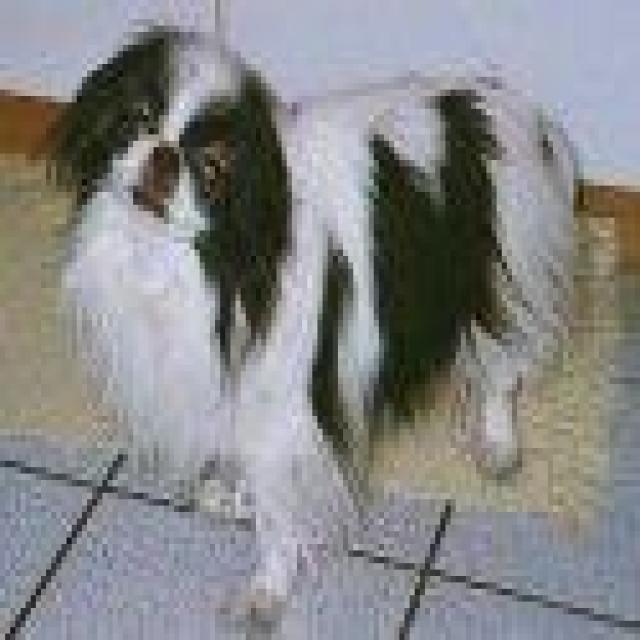husky: (51, 12, 604, 634)
